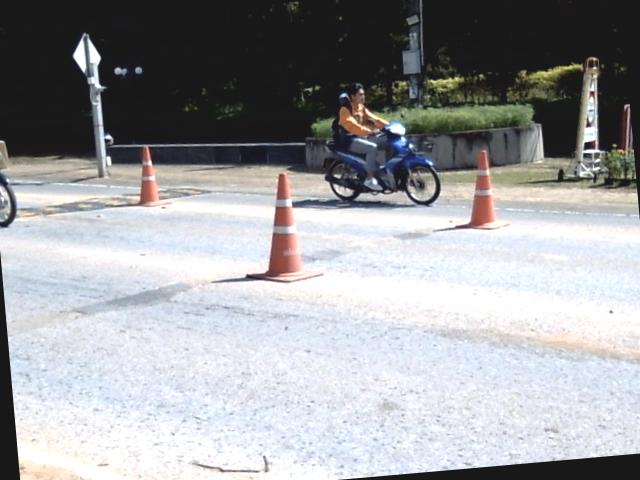motor: (324, 121, 439, 204)
no-helmet: (345, 81, 362, 103)
person: (338, 82, 387, 189)
